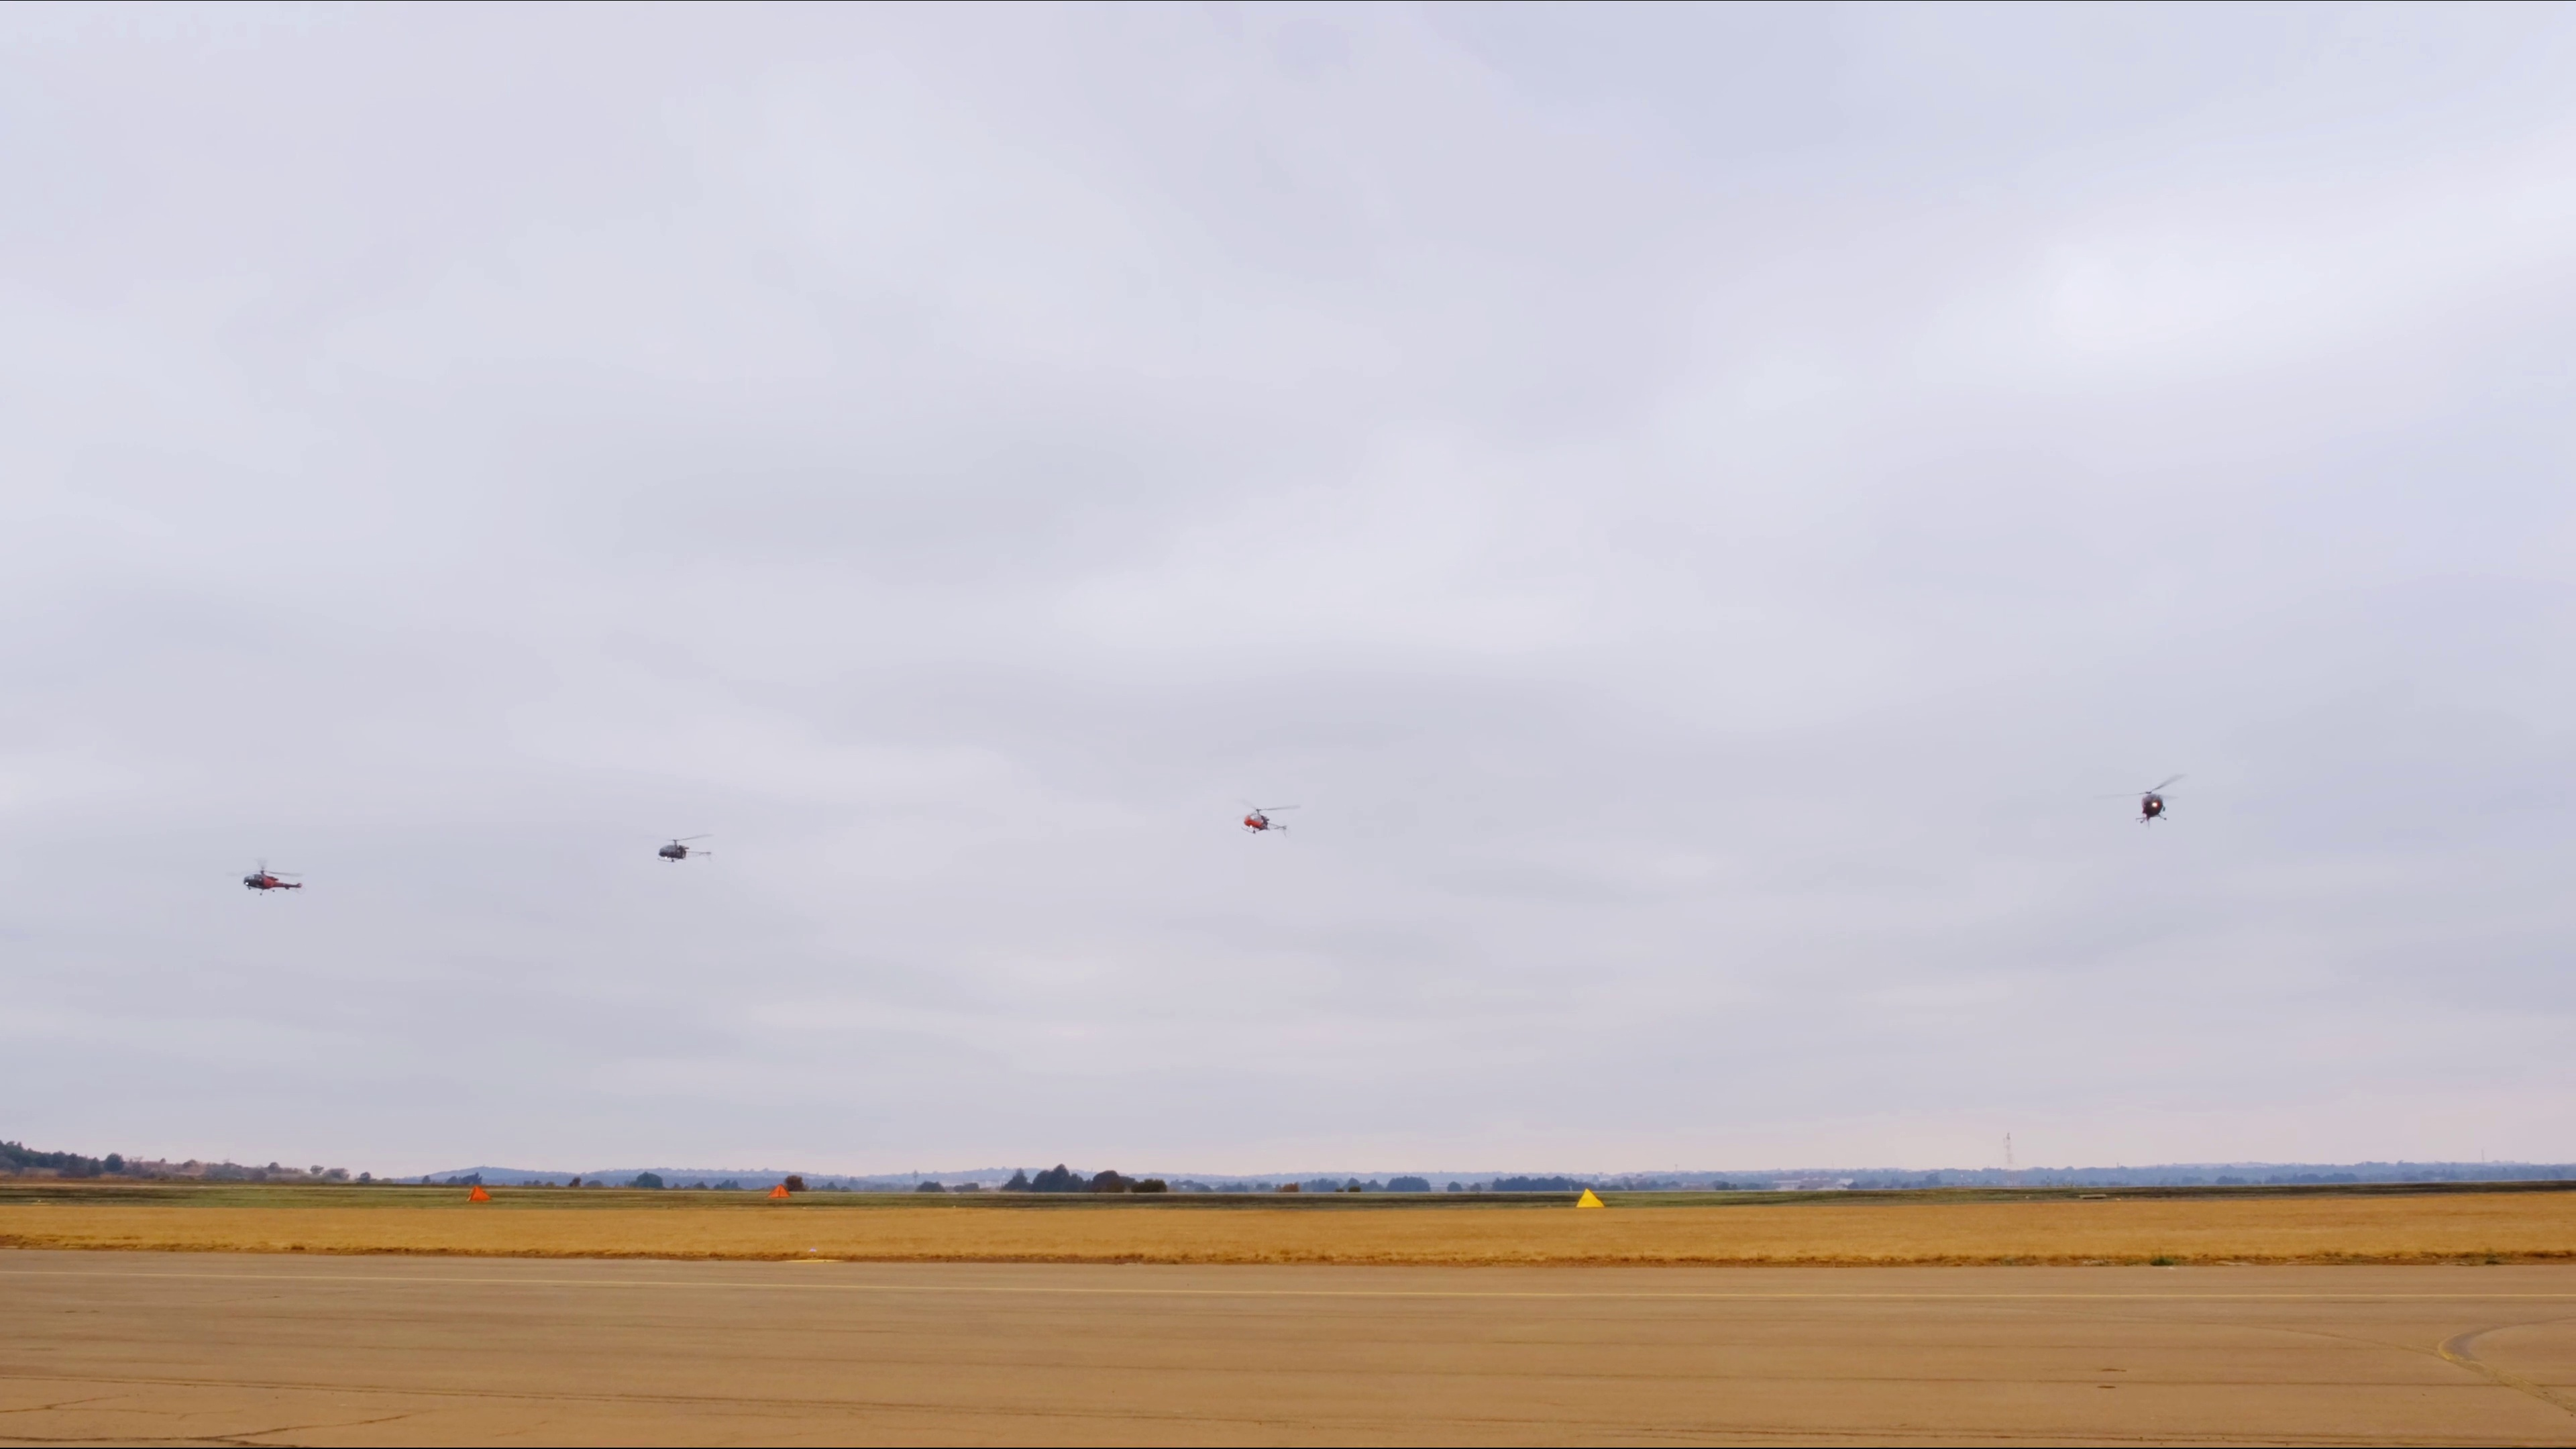heli: (2125, 775, 2183, 828), (241, 860, 303, 899), (1238, 805, 1300, 840), (658, 835, 715, 865)
